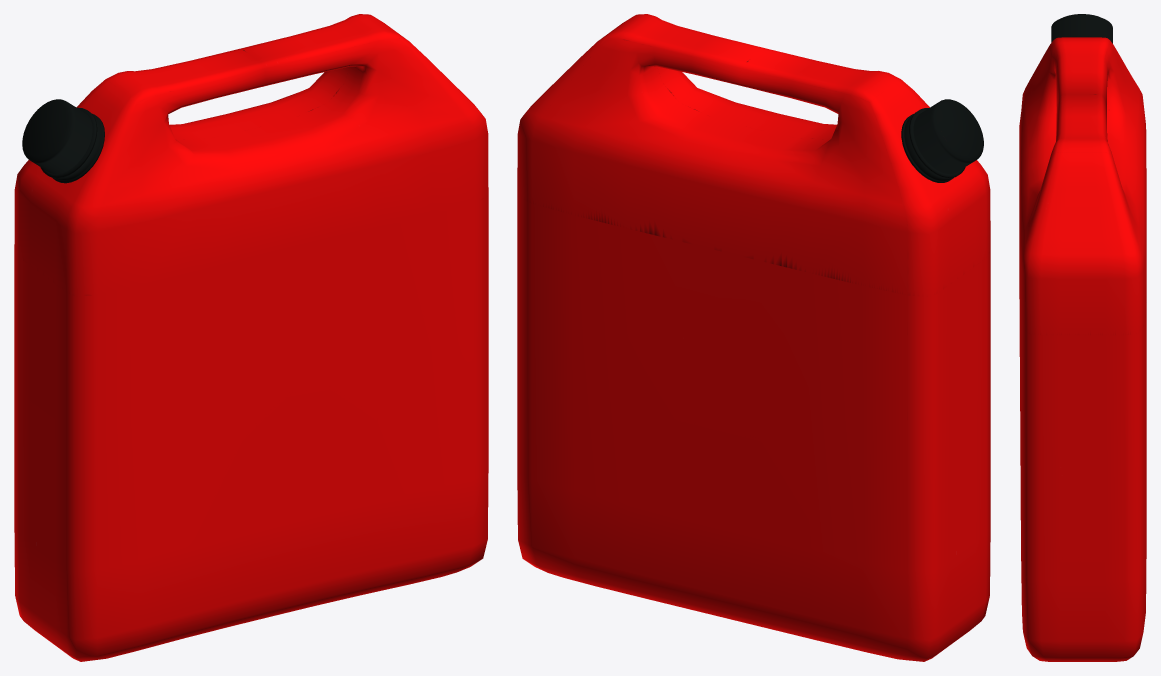
The model's file is gasoline_canister.glb.
The picture shows the model from 3 angles, left to right: view 1: azimuth 30°, elevation 25°; view 2: azimuth 150°, elevation 25°; view 3: azimuth 270°, elevation 25°; orthographic projection. The views are drawn at different scales.
Visible parts, largest first — view 1: Plane.002; view 2: Plane.002; view 3: Plane.002.
Part boxes in pixels (x1,y1,x2,y2): Plane.002: (14,14,488,661); Plane.002: (517,14,990,661); Plane.002: (1019,14,1146,661).
Size of the model in its own units: 324 by 396 by 92.9.
Materials: 1 (1 with a texture image).
